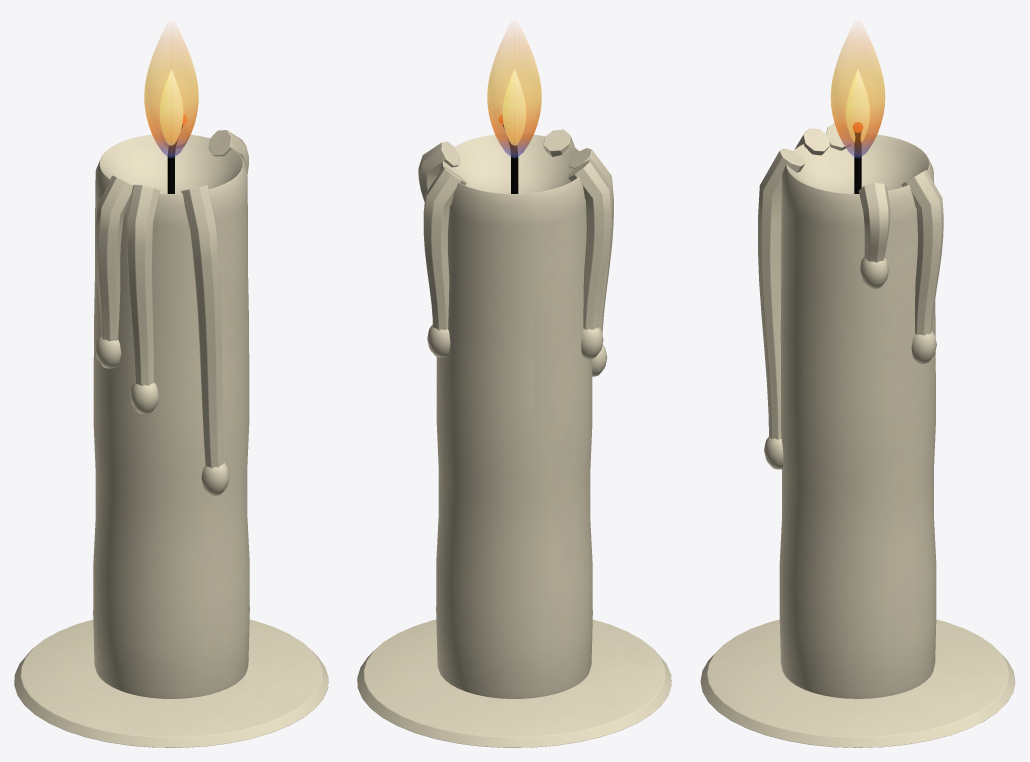
Rendered from Candle_Lit.gltf.
3 views of the same model, side by side, from view 1: azimuth 30°, elevation 25°; view 2: azimuth 150°, elevation 25°; view 3: azimuth 270°, elevation 25° (orthographic).
Visible parts, largest first — view 1: Candle_Lit_Body, Candle_Lit_Flame; view 2: Candle_Lit_Body, Candle_Lit_Flame; view 3: Candle_Lit_Body, Candle_Lit_Flame.
Part boxes in pixels (box(x1,y1,x2,y2)): Candle_Lit_Body: box(14, 114, 328, 747); Candle_Lit_Flame: box(144, 26, 198, 157); Candle_Lit_Body: box(357, 114, 671, 747); Candle_Lit_Flame: box(487, 26, 541, 157); Candle_Lit_Body: box(700, 122, 1015, 747); Candle_Lit_Flame: box(830, 28, 885, 157).
Size of the model in its own units: 0.0898 by 0.21 by 0.0898.
Materials: 5 (2 with a texture image).
